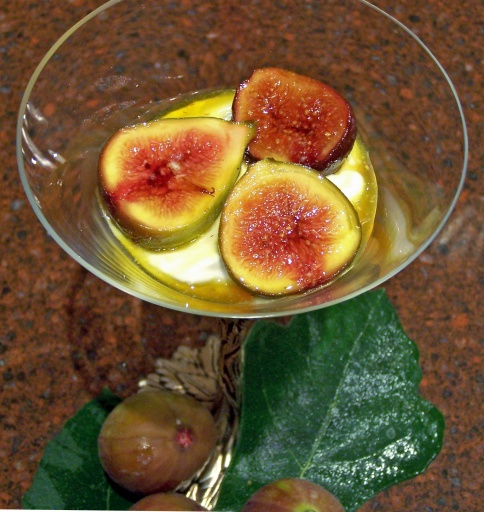background: (83, 30, 263, 409), (73, 51, 286, 242), (73, 98, 165, 409)
